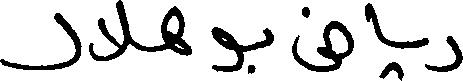X: (0, 8, 80, 74), (293, 2, 352, 76), (89, 0, 130, 65), (161, 1, 190, 60), (213, 22, 244, 76), (429, 31, 462, 76), (366, 0, 382, 80), (263, 23, 272, 52), (422, 33, 427, 73)
